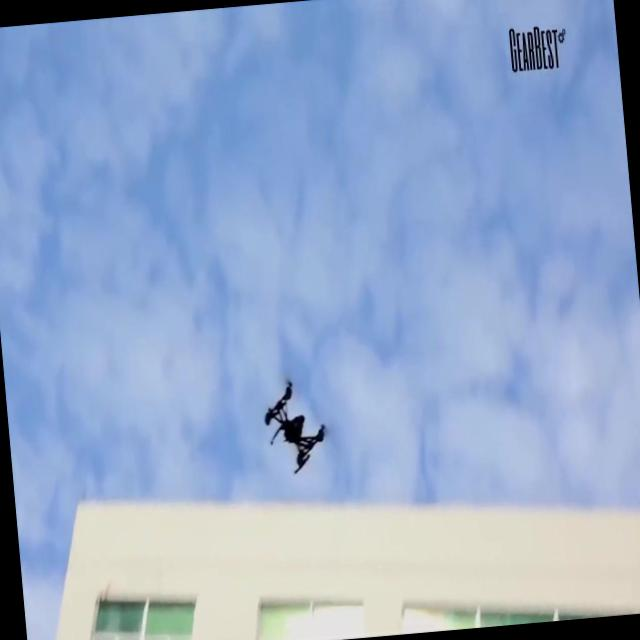drone: (261, 375, 329, 479)
